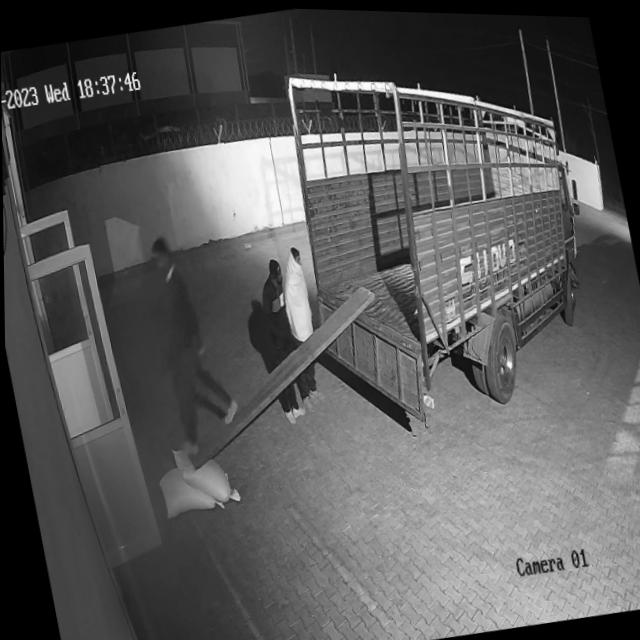sack: (169, 436, 239, 509), (155, 458, 224, 517)
